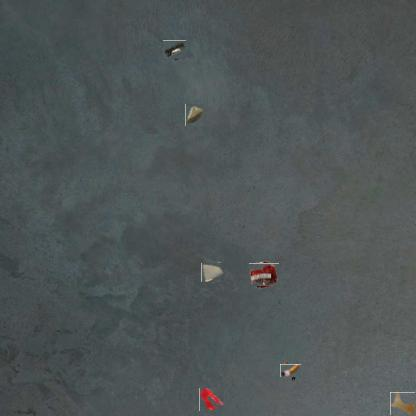dirty: (251, 262, 278, 288), (202, 262, 224, 283), (164, 39, 185, 61), (185, 104, 204, 126), (282, 362, 299, 379)
liquid: (200, 387, 224, 412), (390, 392, 415, 415)
